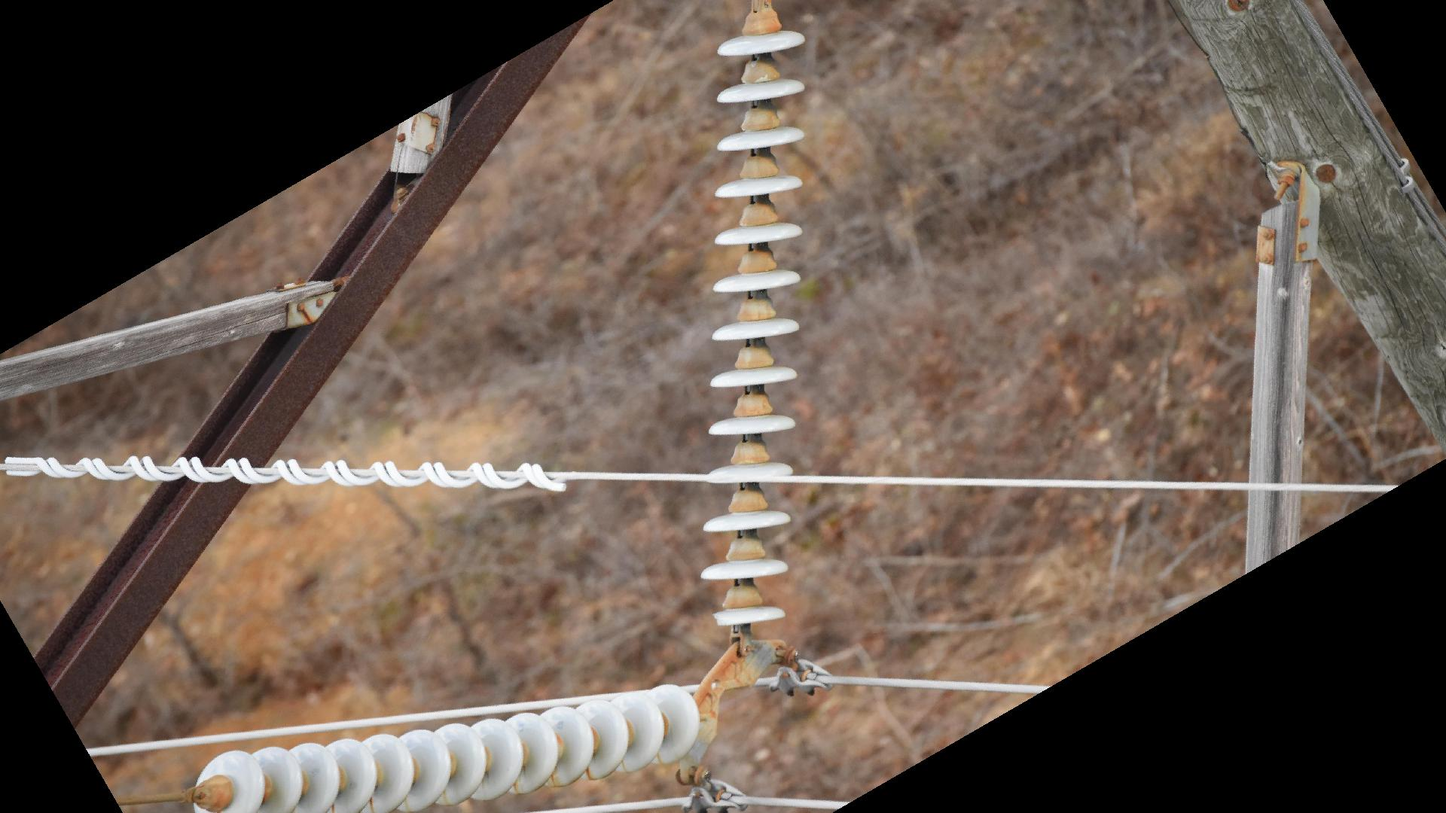insulator: (190, 678, 706, 813), (697, 25, 810, 634)
insulator_breakage: (707, 605, 728, 630)
